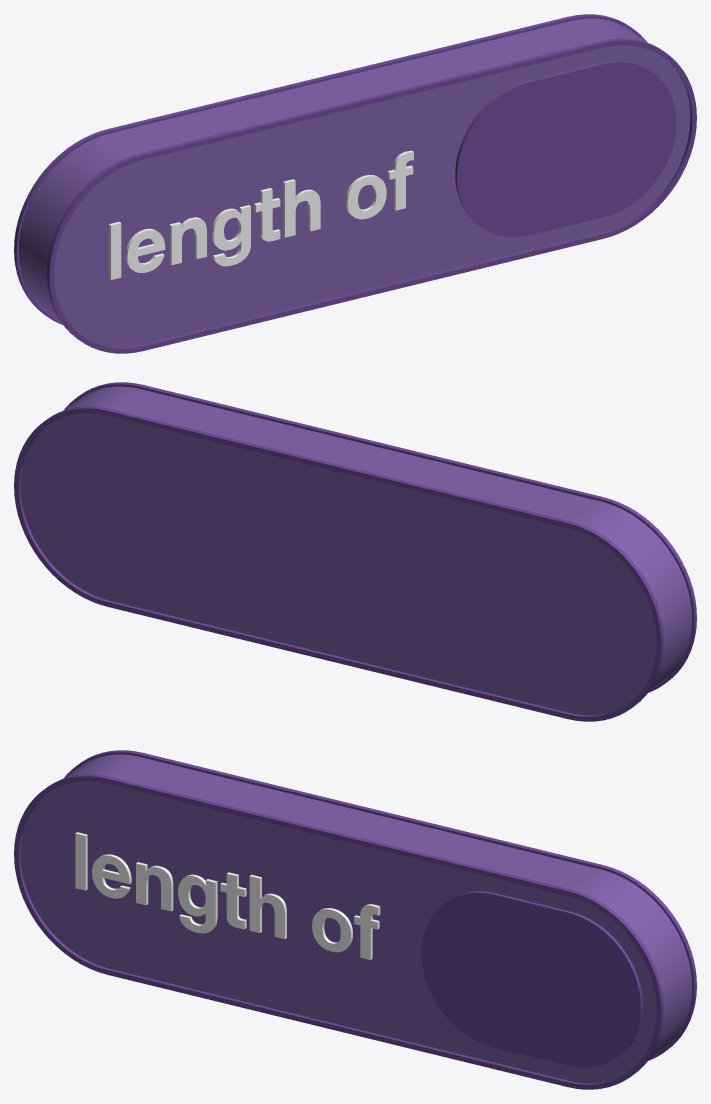
The model's file is lists_length.gltf.
3 views of the same model, one above another, from view 1: azimuth 30°, elevation 25°; view 2: azimuth 150°, elevation 25°; view 3: azimuth 330°, elevation 25° (orthographic).
Visible parts, largest first — view 1: Extrude, Extrude.10, Extrude.1, Extrude.11, Extrude.5, Extrude.7, Extrude.3, Extrude.4, Extrude.8, Extrude.9, Extrude.6, Extrude.2; view 2: Extrude, Extrude.11, Extrude.1; view 3: Extrude, Extrude.10, Extrude.1, Extrude.11, Extrude.5, Extrude.7, Extrude.3, Extrude.4, Extrude.8, Extrude.9, Extrude.6, Extrude.2.
Part boxes in pixels (left/top/right/bottom): Extrude: left=19, top=18, right=690, bottom=347; Extrude.10: left=455, top=61, right=676, bottom=237; Extrude.1: left=47, top=38, right=696, bottom=353; Extrude.11: left=14, top=14, right=646, bottom=324; Extrude.5: left=211, top=205, right=250, bottom=266; Extrude.7: left=283, top=179, right=320, bottom=237; Extrude.3: left=125, top=228, right=165, bottom=272; Extrude.4: left=169, top=217, right=206, bottom=265; Extrude.8: left=345, top=175, right=386, bottom=219; Extrude.9: left=387, top=150, right=413, bottom=210; Extrude.6: left=254, top=188, right=280, bottom=241; Extrude.2: left=109, top=221, right=121, bottom=279; Extrude: left=20, top=386, right=691, bottom=715; Extrude.11: left=14, top=406, right=663, bottom=721; Extrude.1: left=64, top=382, right=696, bottom=692; Extrude: left=20, top=754, right=691, bottom=1083; Extrude.10: left=421, top=891, right=642, bottom=1067; Extrude.1: left=14, top=774, right=663, bottom=1089; Extrude.11: left=64, top=750, right=696, bottom=1060; Extrude.5: left=178, top=874, right=217, bottom=933; Extrude.7: left=249, top=874, right=286, bottom=939; Extrude.3: left=92, top=854, right=131, bottom=898; Extrude.4: left=136, top=862, right=173, bottom=911; Extrude.8: left=312, top=908, right=352, bottom=952; Extrude.9: left=354, top=904, right=380, bottom=959; Extrude.6: left=220, top=872, right=246, bottom=929; Extrude.2: left=75, top=832, right=87, bottom=890.
Size of the model in its own units: 0.7106 by 0.2056 by 0.0677.
